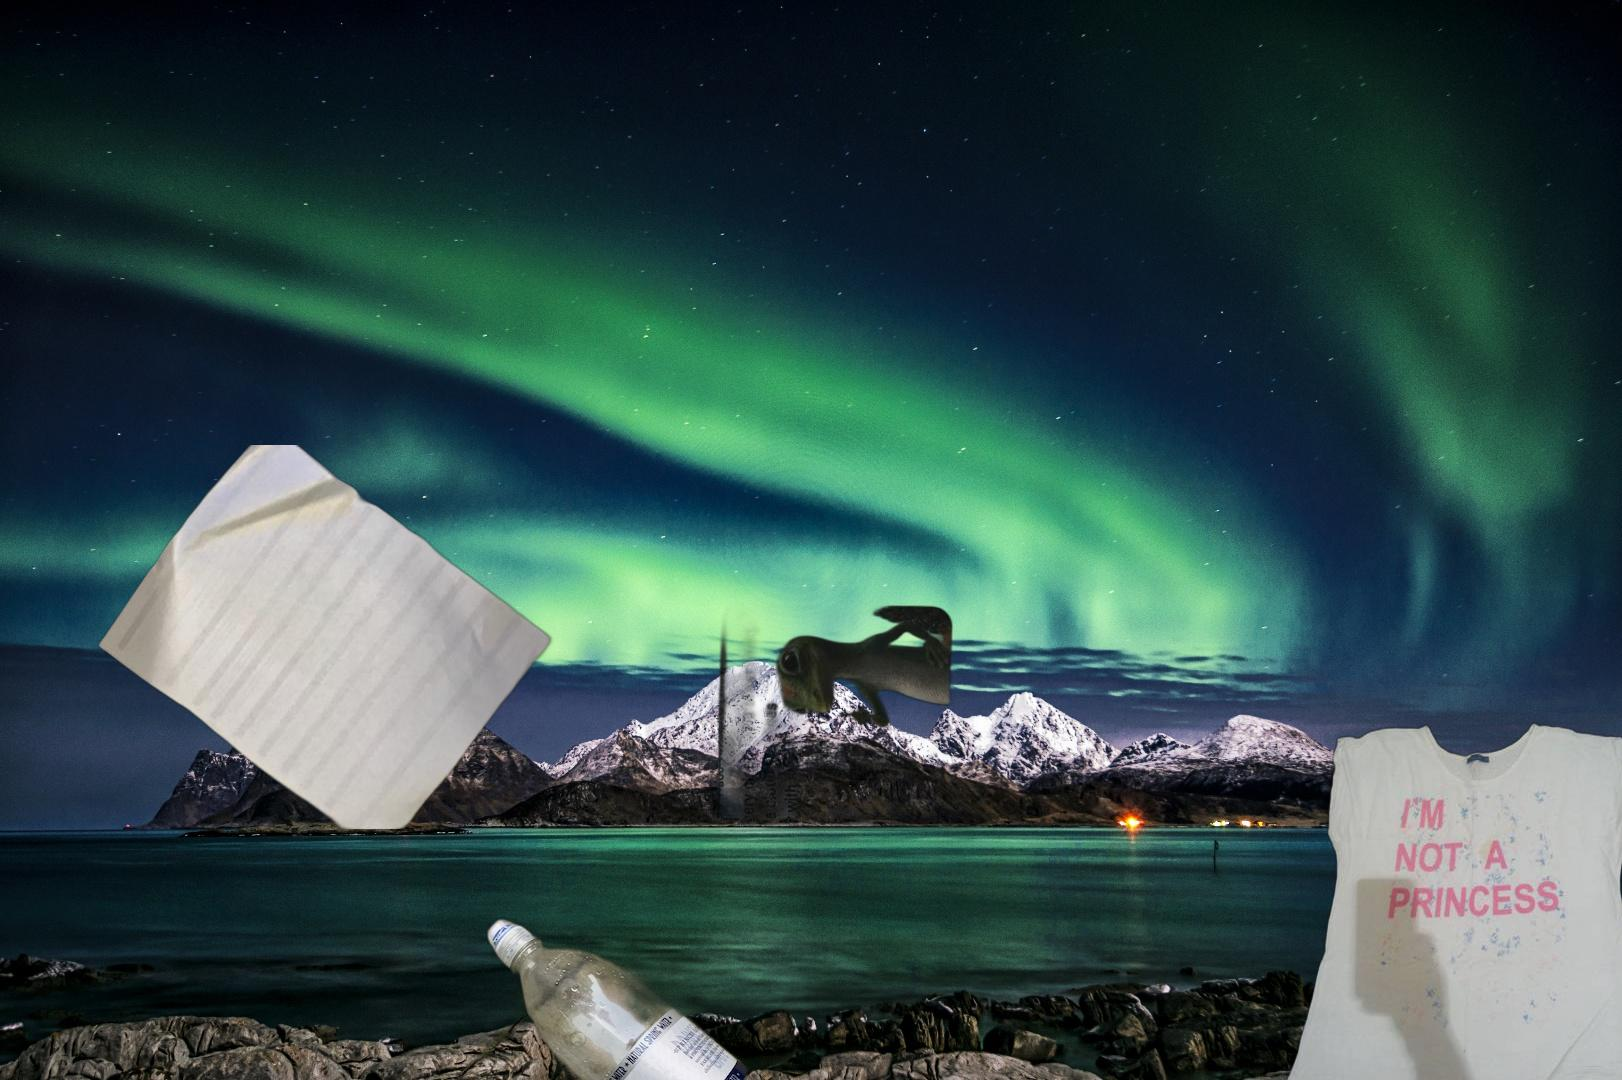clothes: (1280, 718, 1622, 1080)
paper: (94, 445, 556, 829), (669, 553, 1001, 818)
plastic-bottles: (280, 912, 752, 1080)
